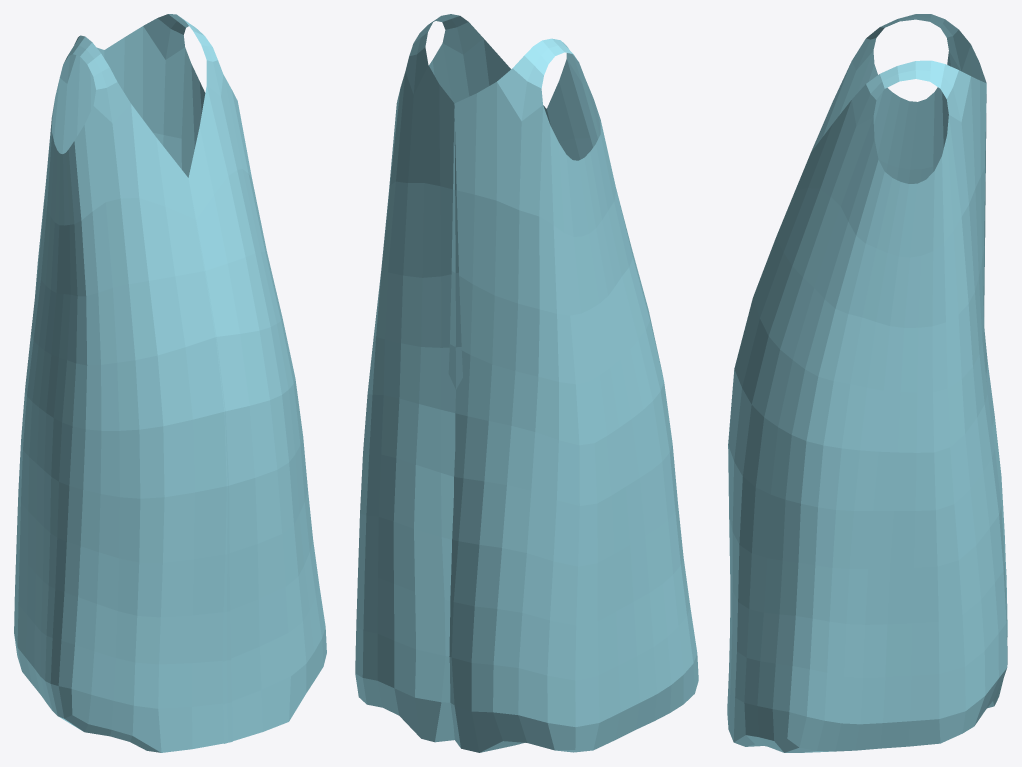
3 renders of one model, left to right at view 1: azimuth 30°, elevation 25°; view 2: azimuth 150°, elevation 25°; view 3: azimuth 270°, elevation 25°, orthographic. The views are drawn at different scales.
Visible parts, largest first — view 1: dress; view 2: dress; view 3: dress.
Boxes of the visible parts, bbox=[...] form: dress: bbox=[14, 14, 326, 752]; dress: bbox=[355, 14, 698, 752]; dress: bbox=[727, 14, 1007, 752].
Bounding box in the file's own units: 0.9153 × 2.15 × 0.8069.
